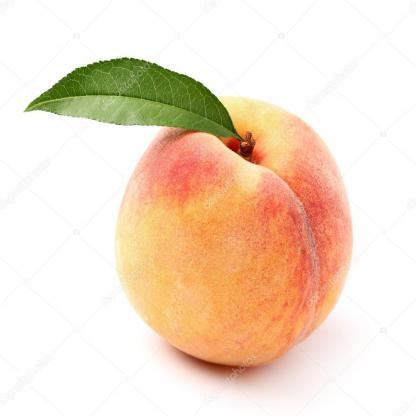Peach leaf: (20, 53, 243, 144)
